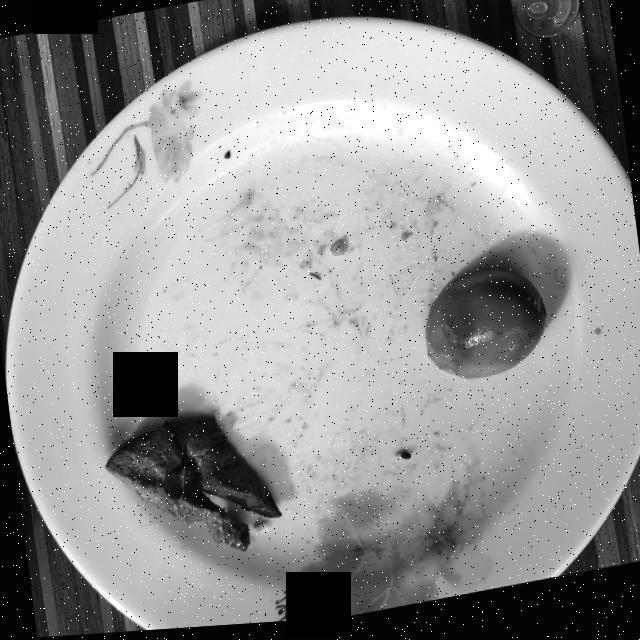coin: (514, 0, 580, 44)
pig liver: (105, 419, 280, 553)
soy egg: (425, 274, 546, 384)
